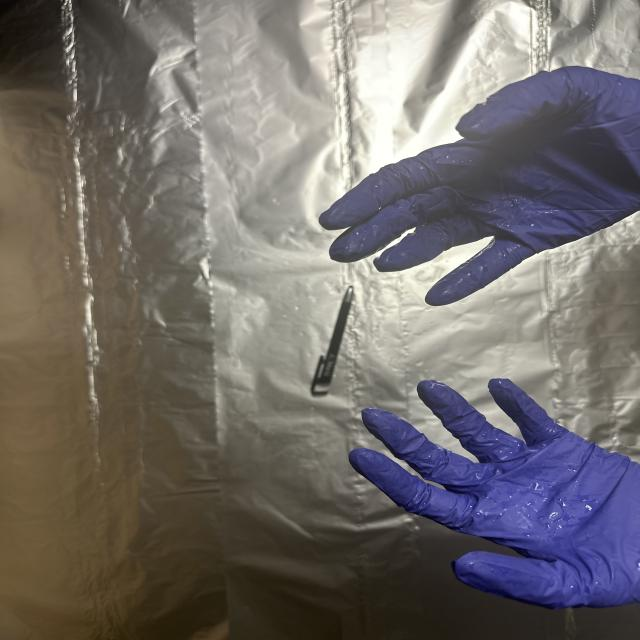gloves_contaminated: (319, 66, 640, 306), (349, 379, 640, 608)
